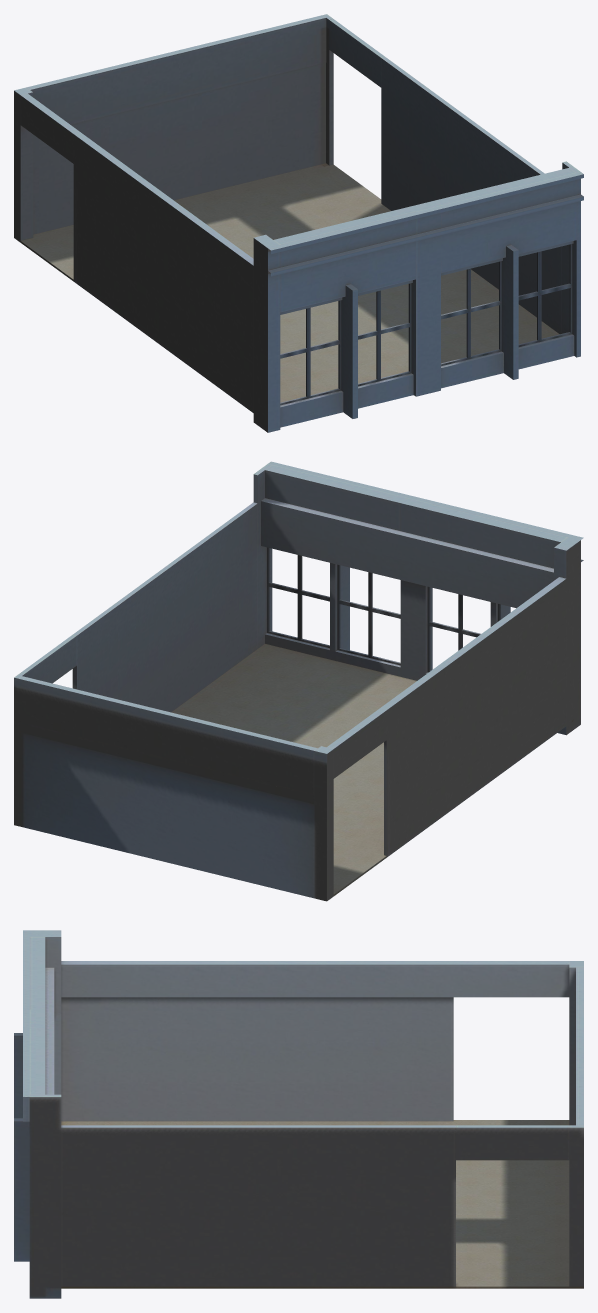
3 renders of one model, top to bottom at view 1: azimuth 30°, elevation 25°; view 2: azimuth 150°, elevation 25°; view 3: azimuth 270°, elevation 25°, orthographic. The views are drawn at different scales.
Parts seen in each view (by area): view 1: hc_2floor_room003 (1)_0; view 2: hc_2floor_room003 (1)_0; view 3: hc_2floor_room003 (1)_0.
Part boxes in pixels (x1,y1,x2,y2): hc_2floor_room003 (1)_0: (14,14,583,432); hc_2floor_room003 (1)_0: (14,461,583,901); hc_2floor_room003 (1)_0: (14,930,583,1298).
Bounding box in the file's own units: 0.877 × 0.4943 × 1.27.
1 material, 1 textured.
